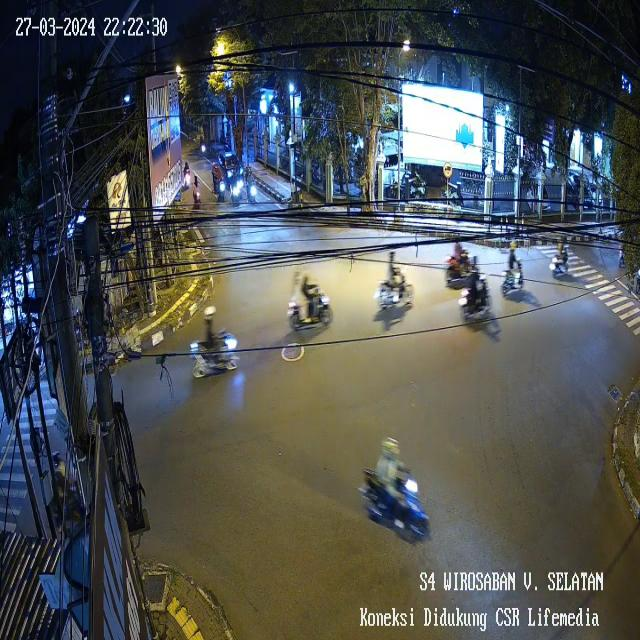car: (216, 141, 244, 179)
motorcycle: (358, 434, 432, 548), (186, 304, 244, 384), (283, 263, 336, 337), (373, 251, 416, 318), (440, 238, 486, 284), (458, 264, 490, 323), (499, 238, 527, 297), (548, 238, 575, 287), (190, 170, 205, 216), (211, 164, 225, 208), (178, 158, 194, 192), (248, 180, 261, 212), (195, 134, 210, 160), (229, 177, 239, 214), (236, 170, 244, 196)
